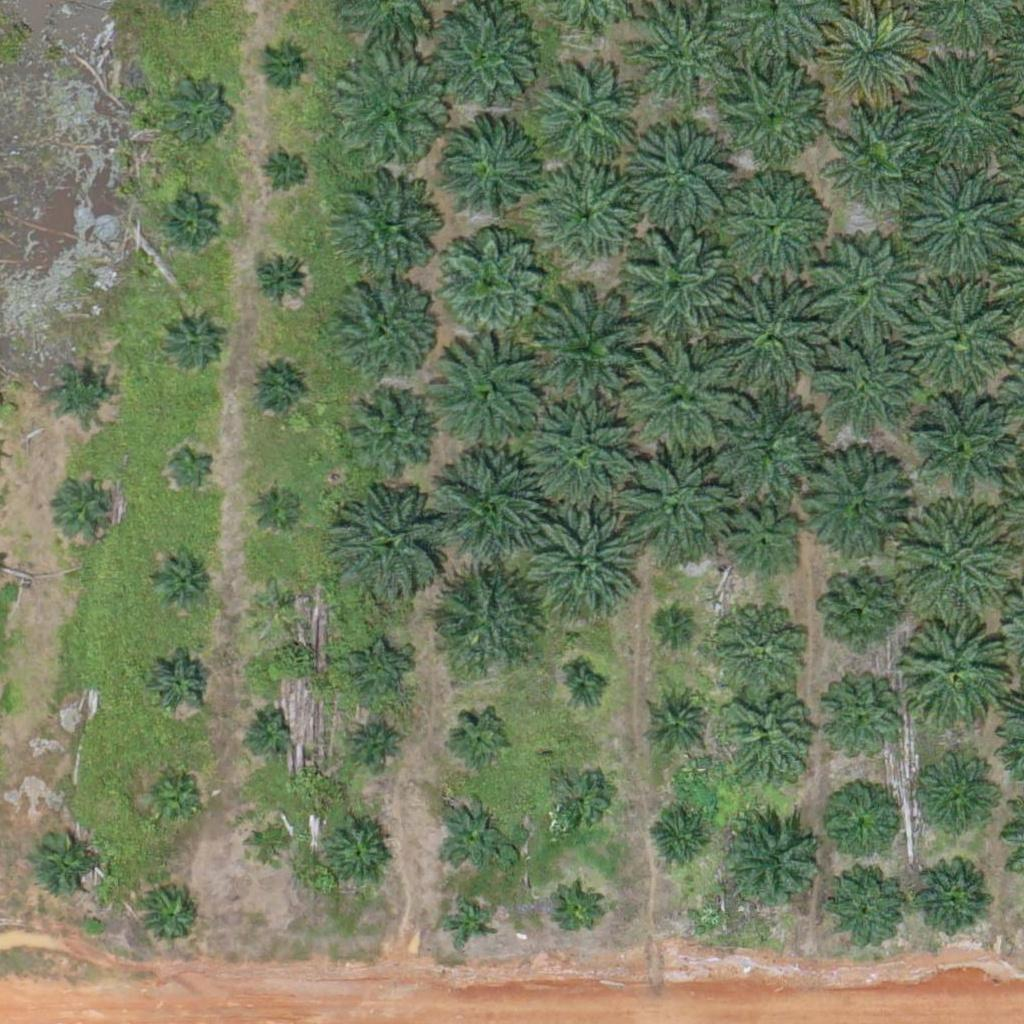Kelapa_Sawit: (529, 288, 654, 414), (327, 482, 452, 608), (524, 396, 637, 510), (434, 341, 547, 455), (432, 226, 545, 340), (336, 58, 449, 172), (894, 613, 1007, 726), (797, 453, 910, 566), (715, 281, 828, 394), (701, 382, 814, 495), (522, 505, 635, 618), (435, 447, 548, 560), (426, 562, 539, 675), (812, 233, 925, 346), (713, 58, 826, 171), (426, 3, 539, 116), (615, 442, 727, 556), (329, 177, 441, 291), (897, 503, 1009, 616), (626, 340, 738, 453), (902, 53, 1014, 166), (902, 164, 1014, 277), (901, 276, 1013, 389), (621, 230, 733, 343), (911, 400, 1011, 501), (720, 812, 820, 913), (723, 178, 823, 279), (630, 123, 730, 224), (538, 72, 638, 173), (335, 275, 435, 376), (539, 165, 639, 265), (443, 119, 543, 219), (715, 603, 803, 691), (723, 697, 811, 785), (345, 392, 433, 480), (833, 115, 920, 204), (909, 750, 996, 838), (820, 347, 907, 435), (31, 824, 106, 900), (823, 573, 898, 649), (917, 866, 992, 942), (825, 688, 900, 764), (828, 870, 903, 946), (721, 506, 796, 582), (163, 71, 238, 146), (320, 814, 395, 889), (436, 796, 511, 871), (61, 475, 124, 538), (50, 359, 113, 422), (159, 198, 222, 261), (148, 547, 211, 610), (148, 652, 211, 715), (825, 793, 888, 856), (141, 884, 204, 947), (649, 811, 712, 874), (544, 766, 607, 829), (141, 766, 204, 829), (249, 248, 312, 311), (160, 309, 222, 372), (348, 639, 410, 702), (452, 708, 514, 771), (246, 360, 308, 423), (550, 888, 600, 939), (354, 717, 404, 768), (443, 897, 493, 948), (252, 477, 302, 528), (251, 574, 301, 625), (241, 703, 291, 754), (167, 439, 217, 490), (257, 39, 307, 90), (652, 696, 702, 746), (245, 819, 295, 869), (261, 147, 311, 197), (660, 607, 698, 645), (565, 669, 602, 707)
